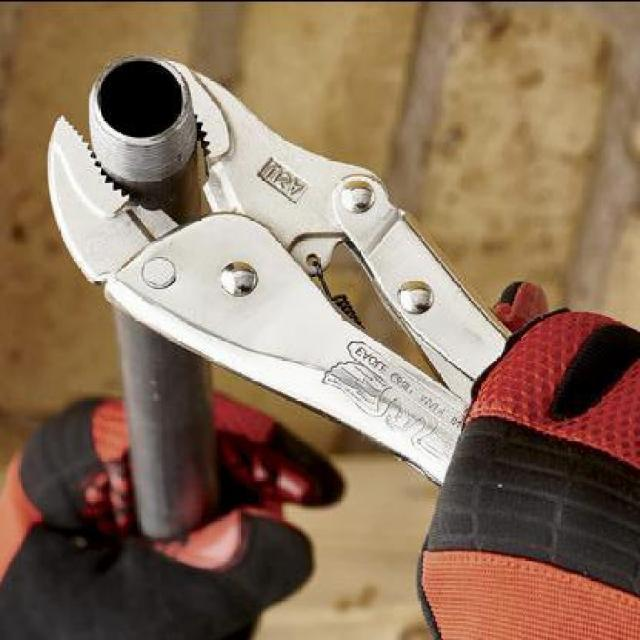pliers: (46, 59, 445, 398)
